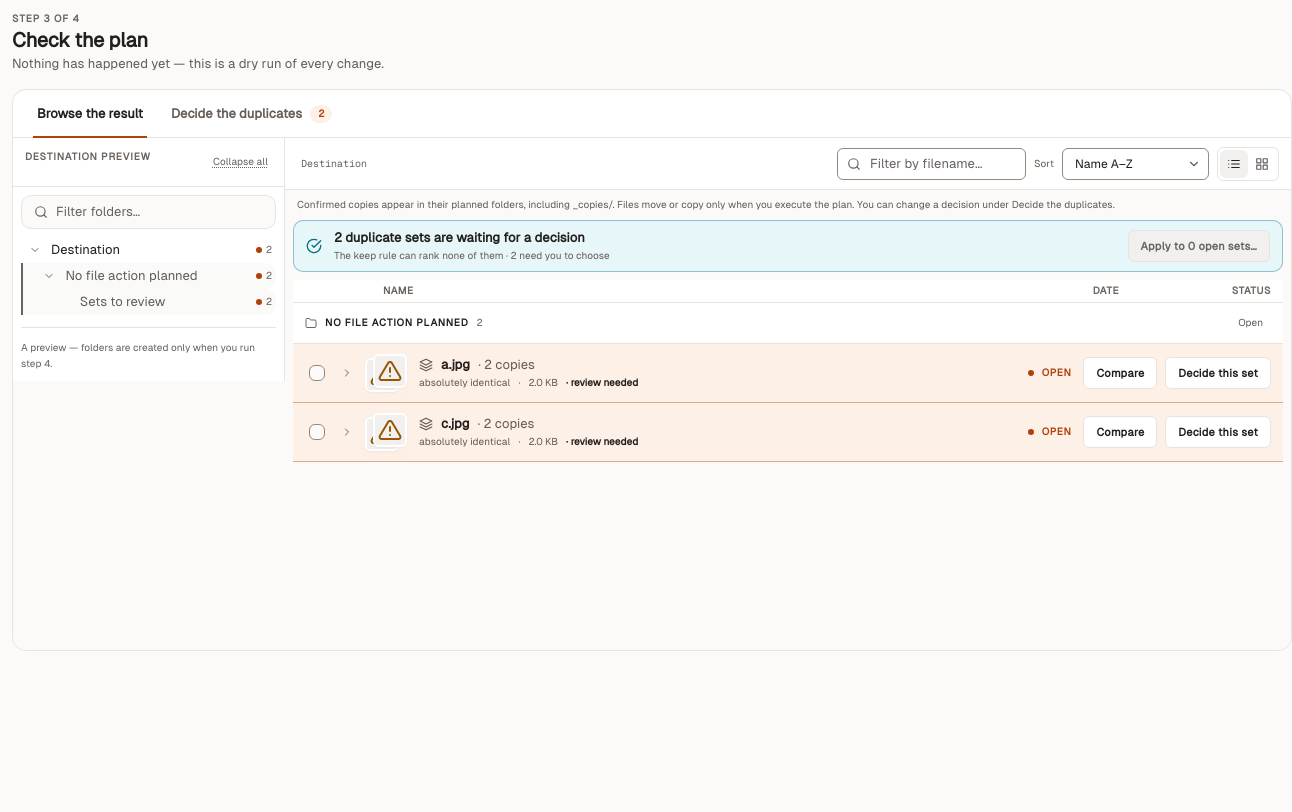
it: resolve › stays put when the set just decided was the last one open
Click the tab "Decide the duplicates 2" at point(252, 114), box left=159, top=90, right=344, bottom=137
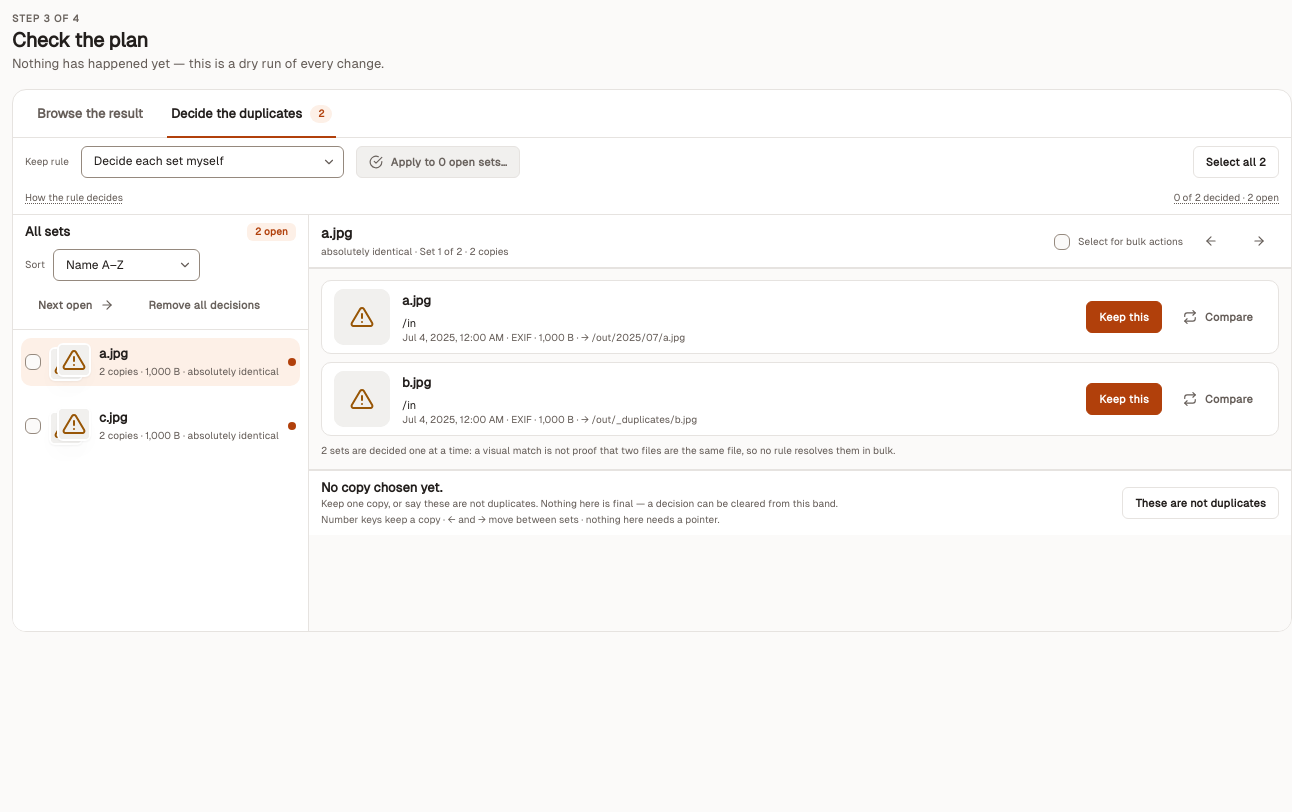
Click the 2nd button "Keep this" at point(1124, 399), box left=1086, top=383, right=1162, bottom=415
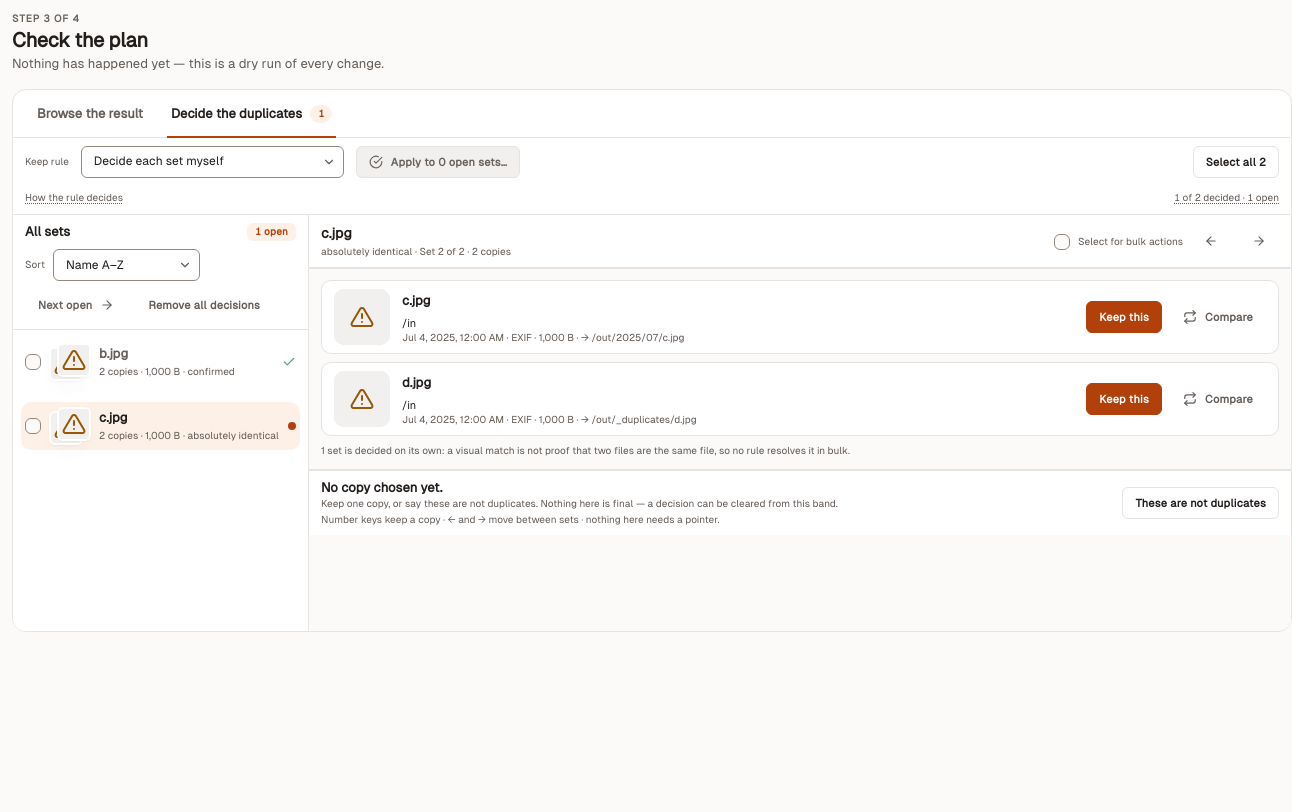
Click the 2nd button "Keep this" at point(1124, 399), box left=1086, top=383, right=1162, bottom=415
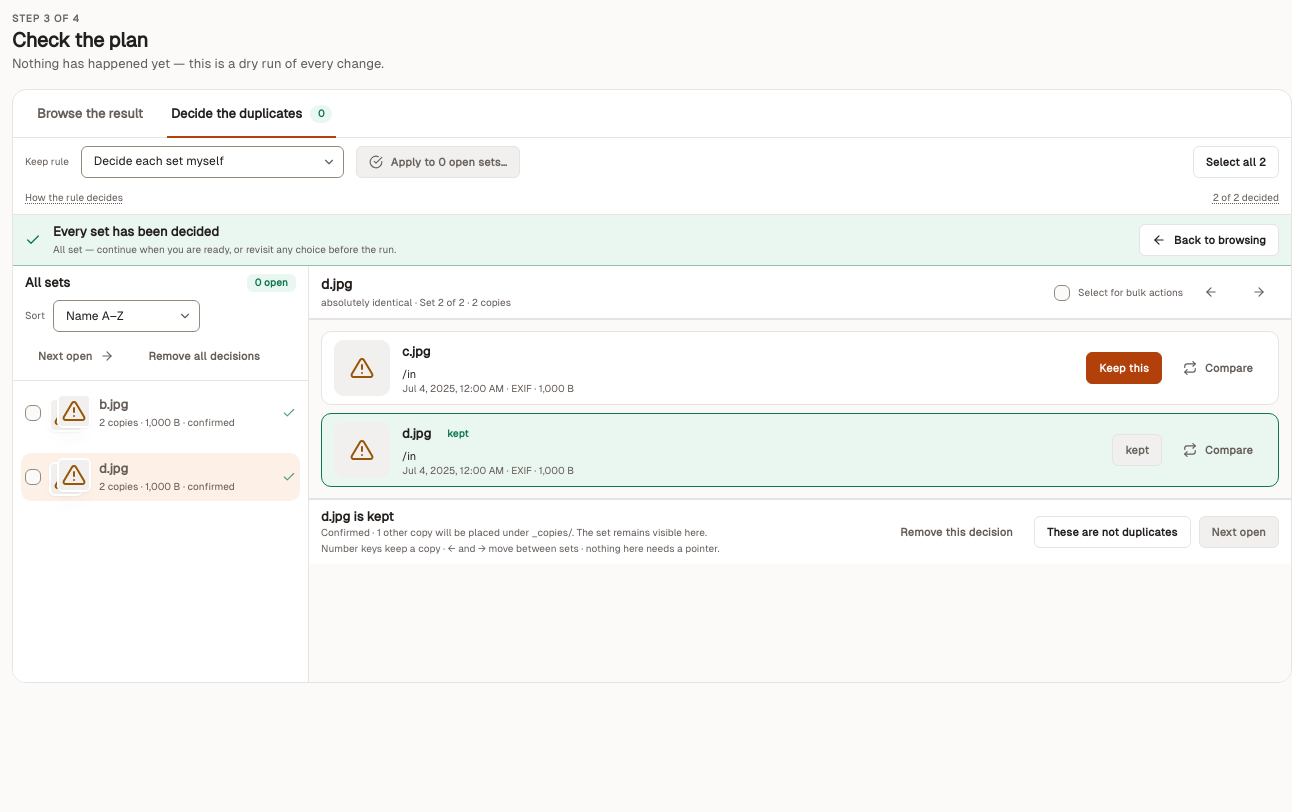
Check: the text "Every set has been decided" is shown, box left=53, top=224, right=219, bottom=239
